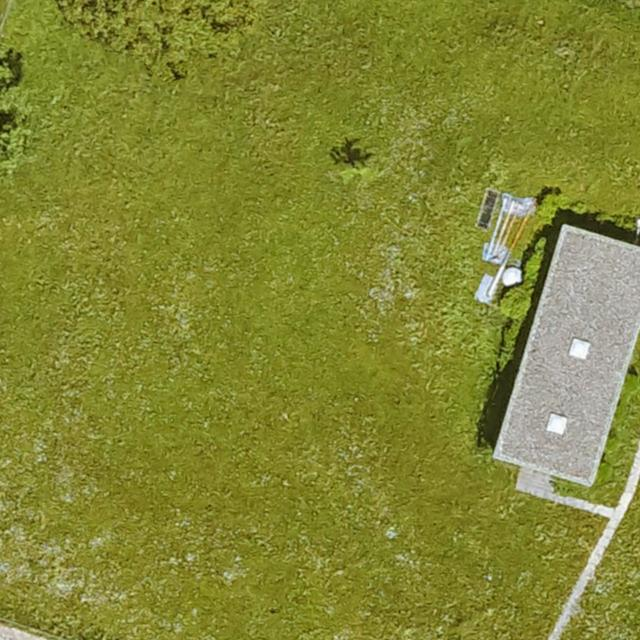tree: (41, 0, 262, 73), (0, 71, 35, 174), (325, 160, 372, 181)
